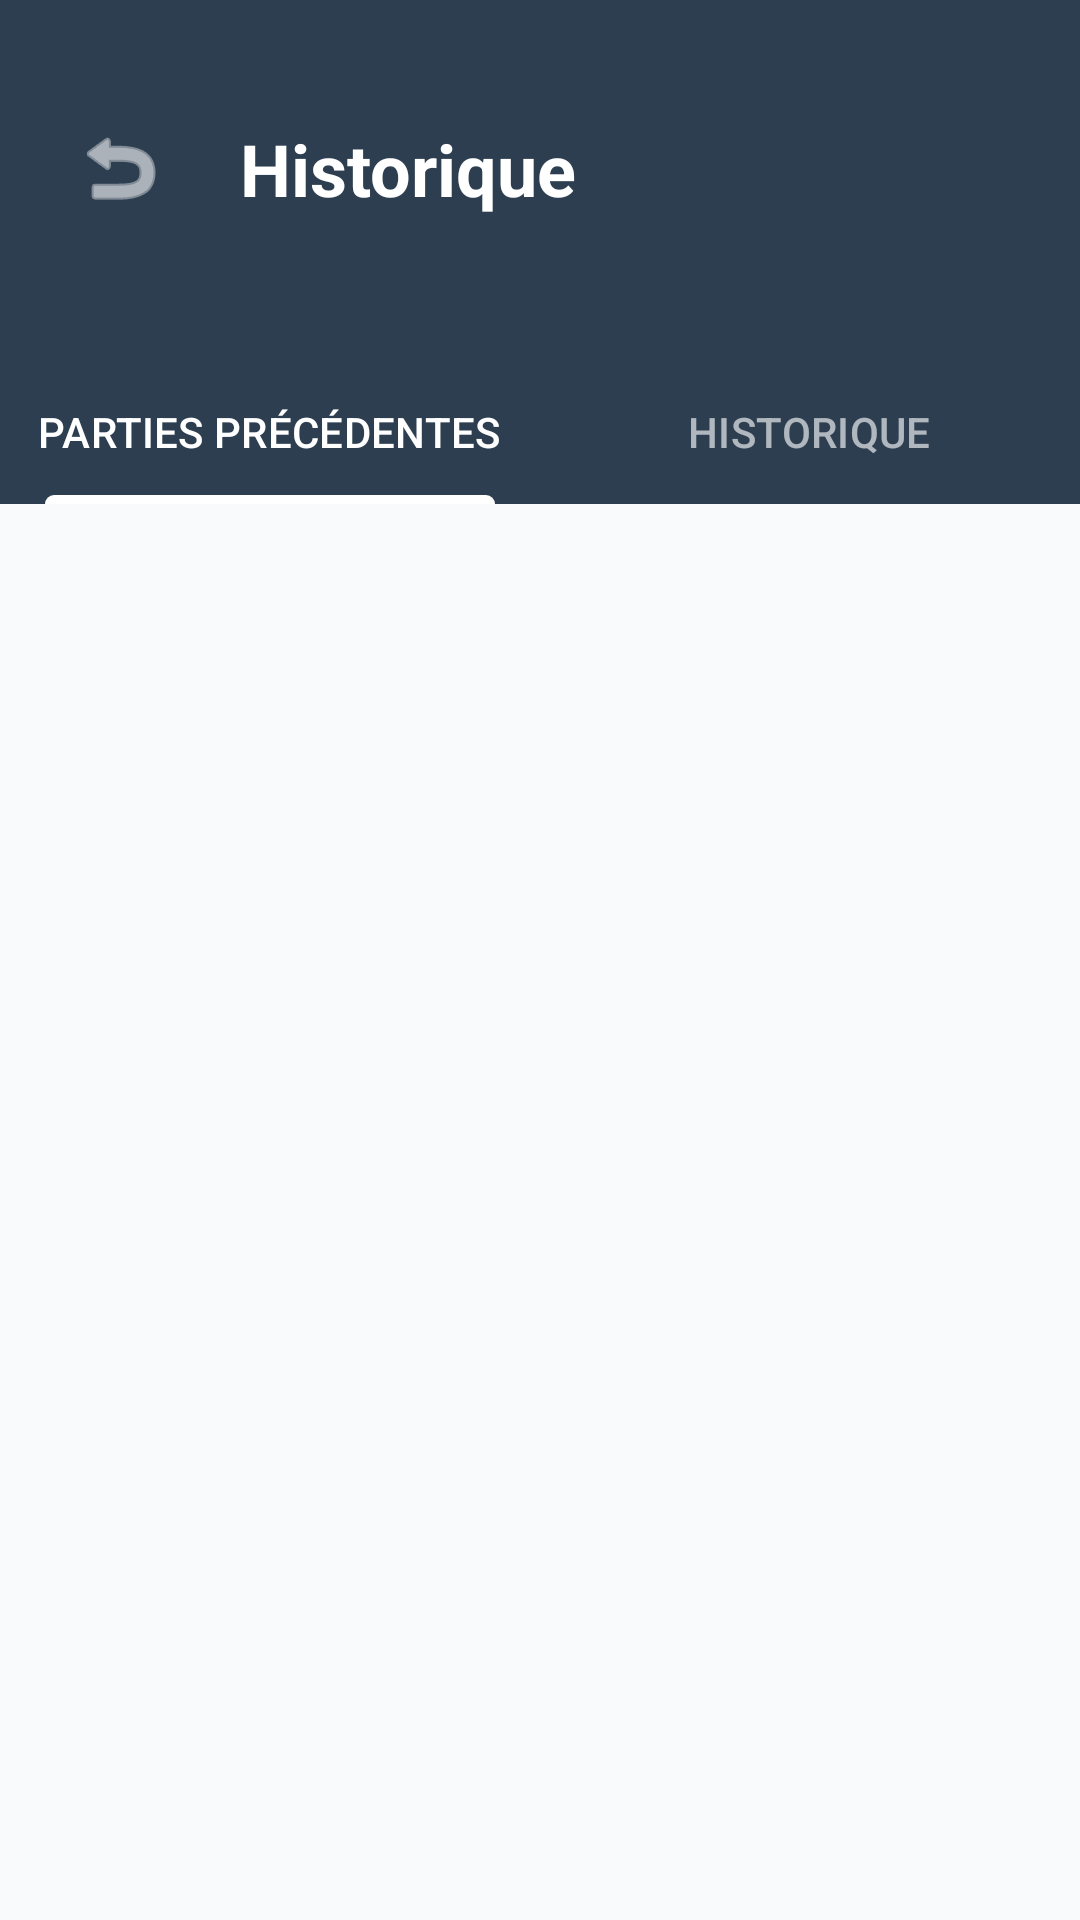

Icon bounding boxes for this 1080w x 1920h phone screenshot, format bbox(x1, y1, x2, y2):
revert: bbox(87, 137, 156, 200)
